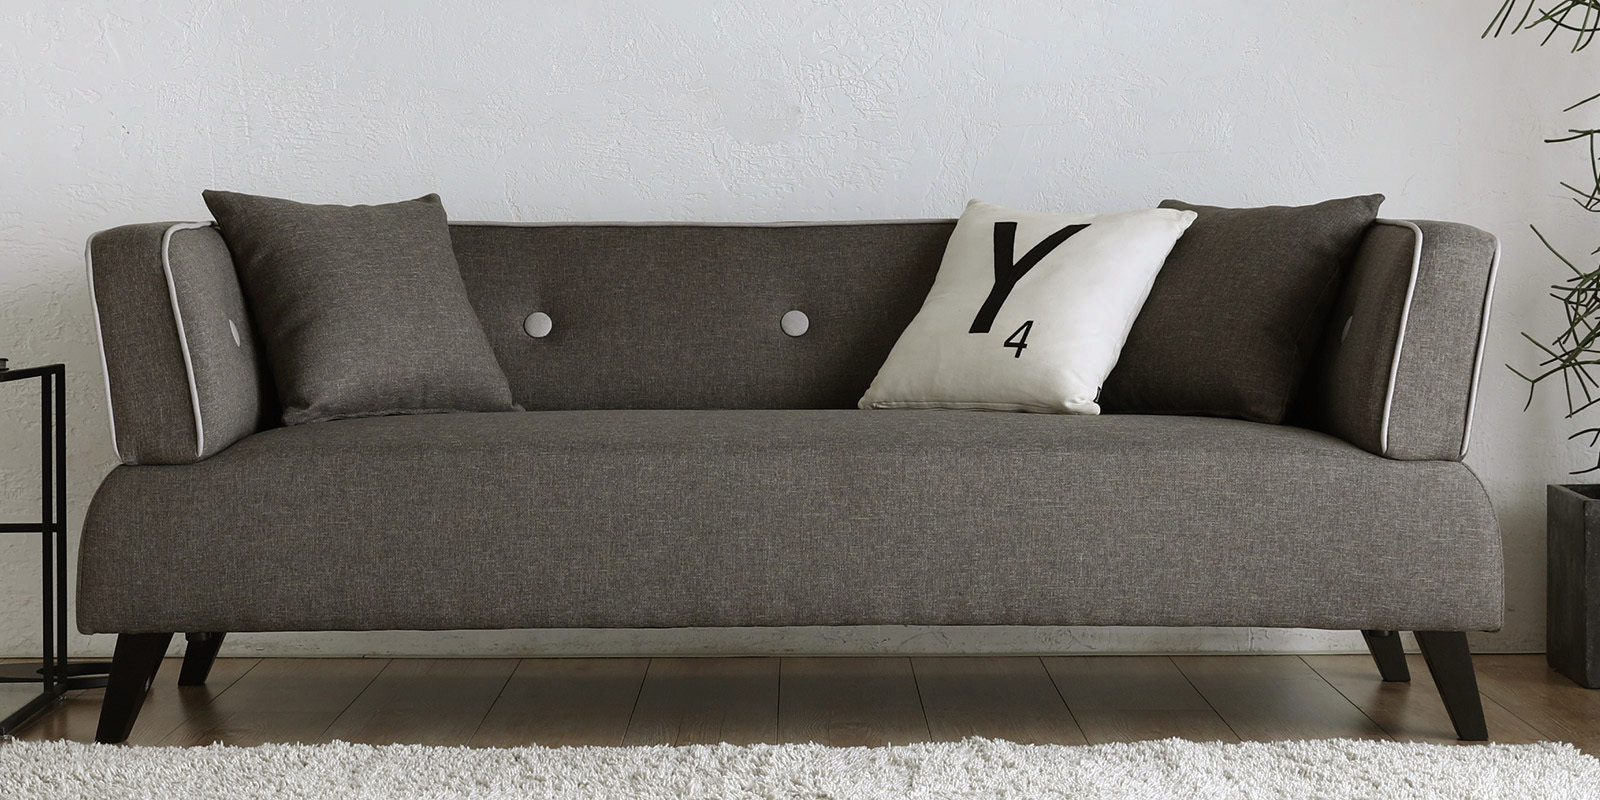Dime Three Seater Sofa in Grey Colour by Zofa: (57, 168, 1536, 760)
